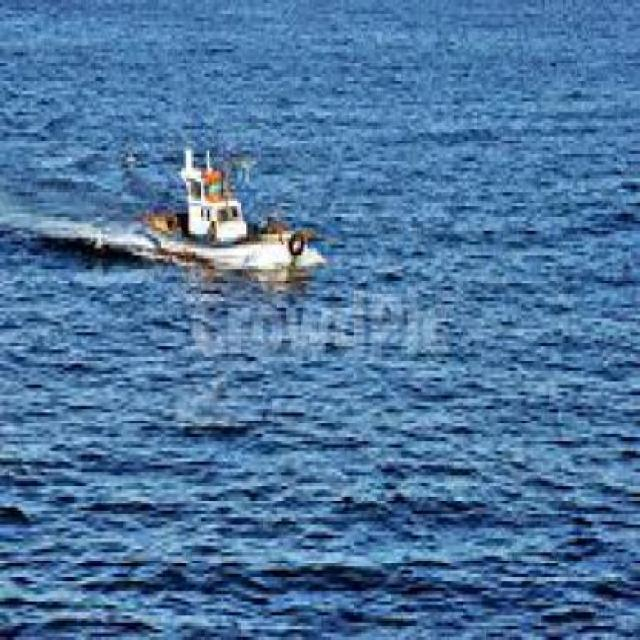fish-b: (115, 137, 333, 305)
